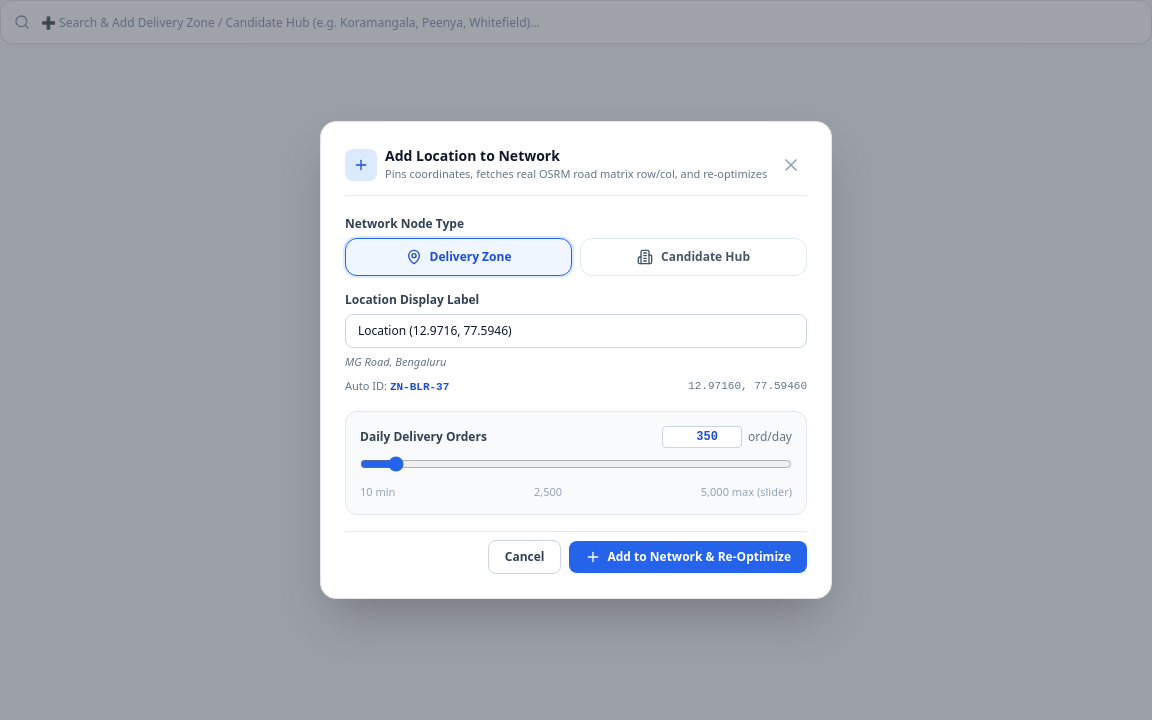
it: BUG 4: Add Location Dialog Polish & Data Handling › UI Component Polish & Synced Inputs › keeps range slider and number input in sync with validation up to global max
The width and height of the screenshot is (1152, 720).
Expected: the slider named "Daily Delivery Orders Slider" holds "350", [360,456,792,472]
Change number input to 1200
Replace the text in the number field labelled "Daily Delivery Orders" with "1200" at [702, 437], box [662,426,742,448]
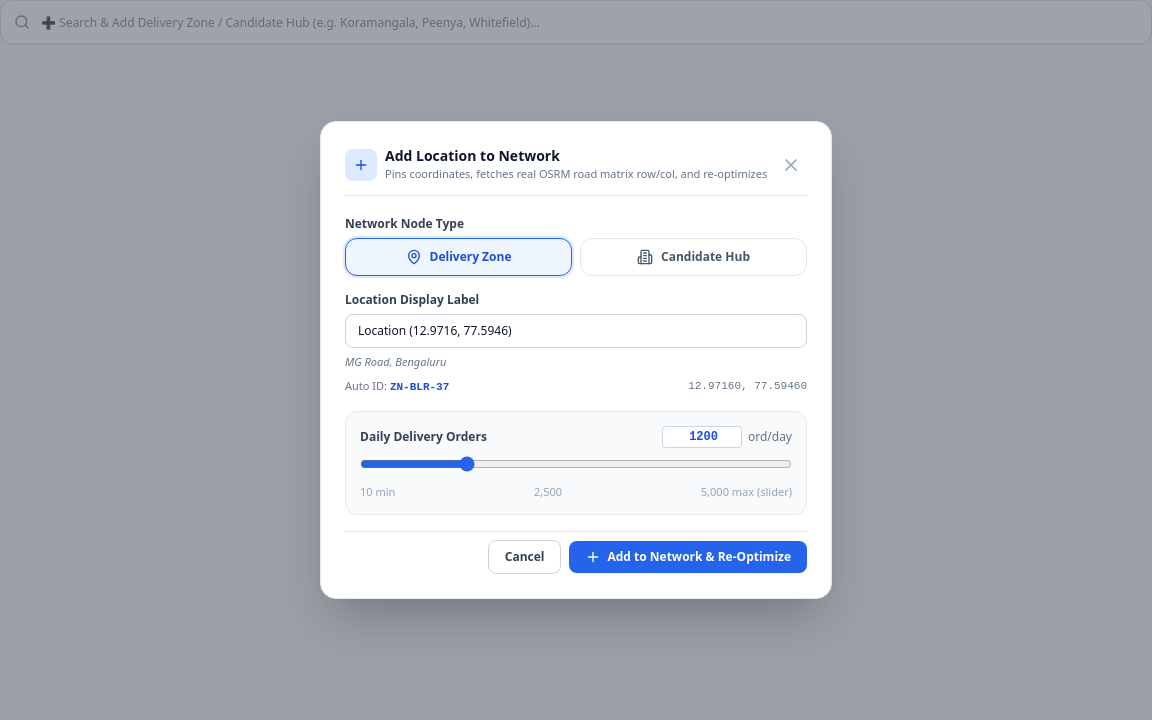
Expected: the slider named "Daily Delivery Orders Slider" holds "1200", [360,456,792,472]
Replace the text in the number field labelled "Daily Delivery Orders" with "8000" at [702, 437], box [662,426,742,448]
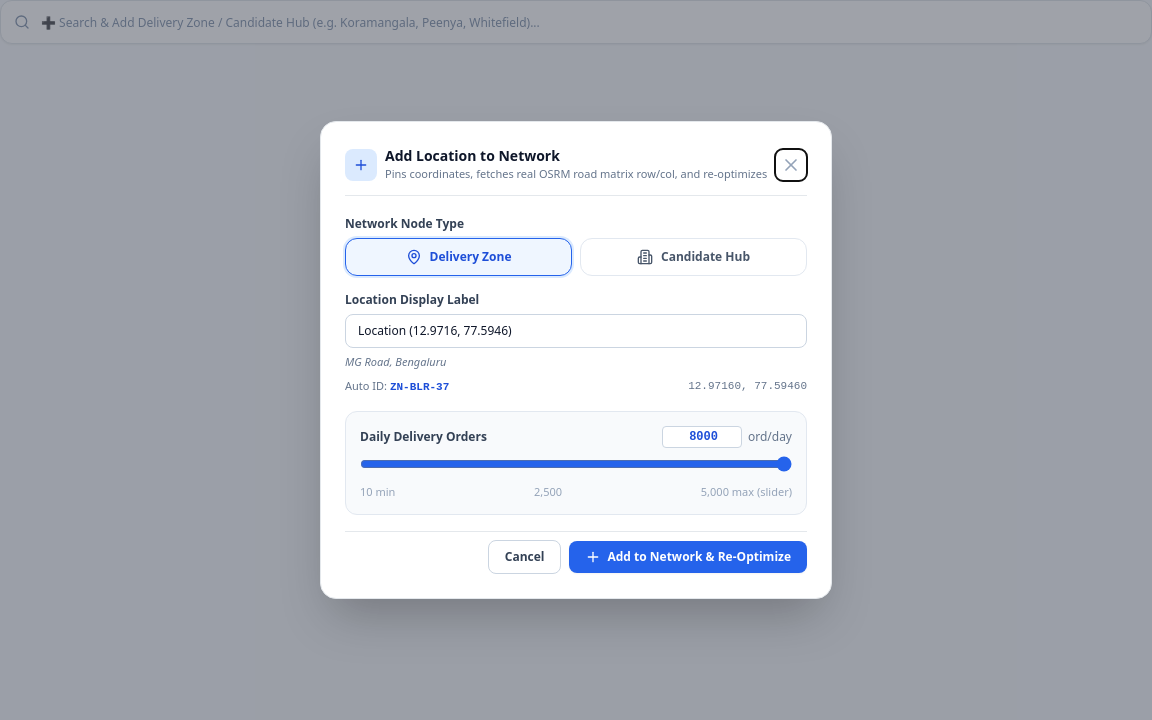
Expected: the slider named "Daily Delivery Orders Slider" holds "5000", [360,456,792,472]
